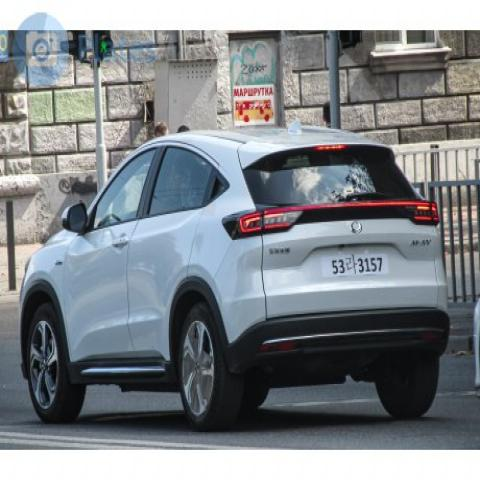LP: (319, 244, 397, 285)
